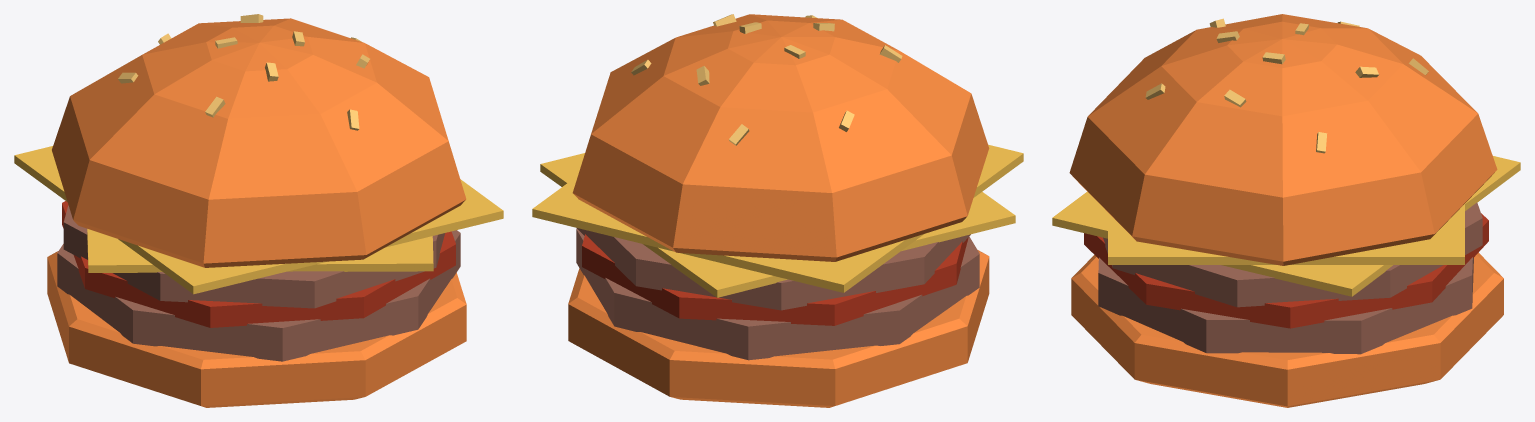
Rendered from Burger.fbx.
The picture shows the model from 3 angles, left to right: view 1: azimuth 30°, elevation 25°; view 2: azimuth 150°, elevation 25°; view 3: azimuth 270°, elevation 25°; orthographic projection.
Parts seen in each view (by area): view 1: Circle.003_Circle.004; view 2: Circle.003_Circle.004; view 3: Circle.003_Circle.004.
Boxes of the visible parts, left/top/right/bottom form: Circle.003_Circle.004: left=14, top=14, right=503, bottom=407; Circle.003_Circle.004: left=532, top=14, right=1023, bottom=407; Circle.003_Circle.004: left=1052, top=14, right=1520, bottom=407.
Size of the model in its own units: 0.7176 by 0.4881 by 0.7176.
